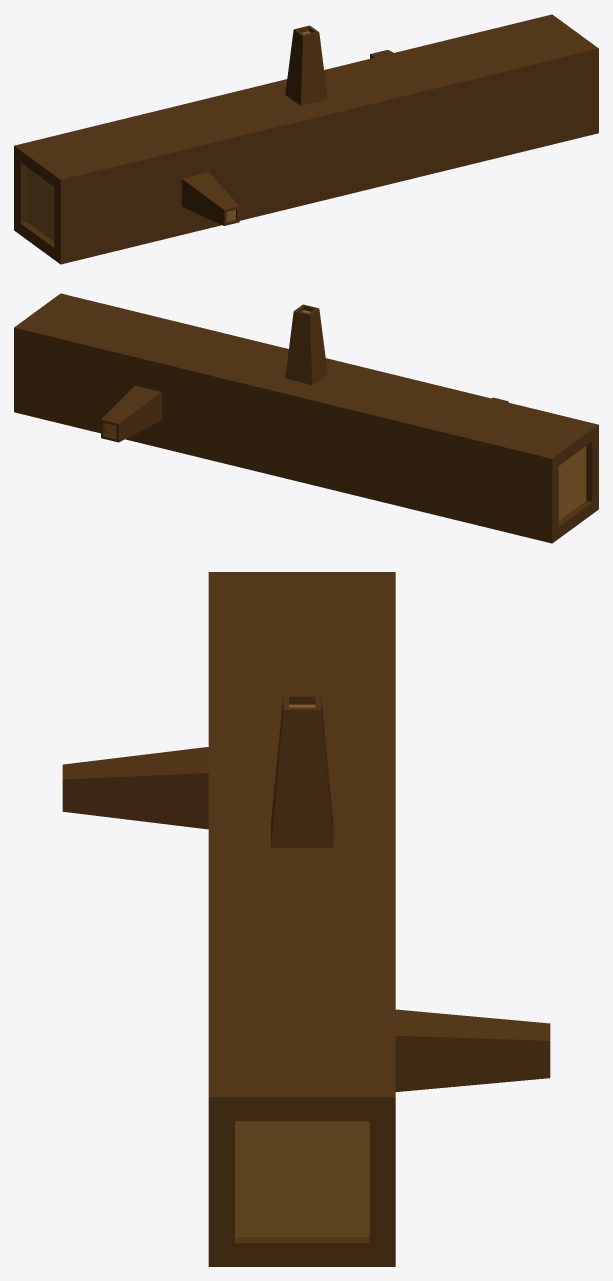
The model's file is WinterTreeTrunk_01.fbx.
The picture shows the model from 3 angles, top to bottom: view 1: azimuth 30°, elevation 25°; view 2: azimuth 150°, elevation 25°; view 3: azimuth 270°, elevation 25°; orthographic projection. The views are drawn at different scales.
Parts seen in each view (by area): view 1: WinterTreeTrunk_01; view 2: WinterTreeTrunk_01; view 3: WinterTreeTrunk_01.
Boxes of the visible parts, x1,y1,x2,y2 form: WinterTreeTrunk_01: (14, 14, 598, 264); WinterTreeTrunk_01: (14, 293, 598, 543); WinterTreeTrunk_01: (62, 572, 550, 1266).
Bounding box in the file's own units: 0.4837 × 0.1296 × 0.1898.
